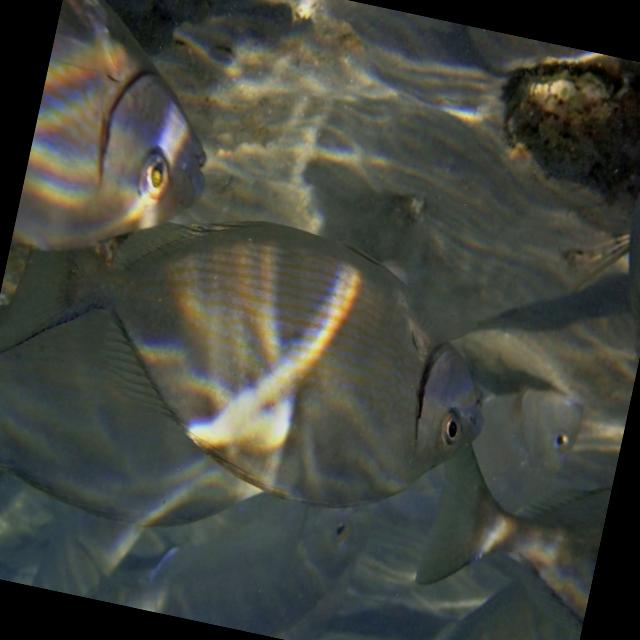Sokar Baligi: (0, 163, 522, 552)
